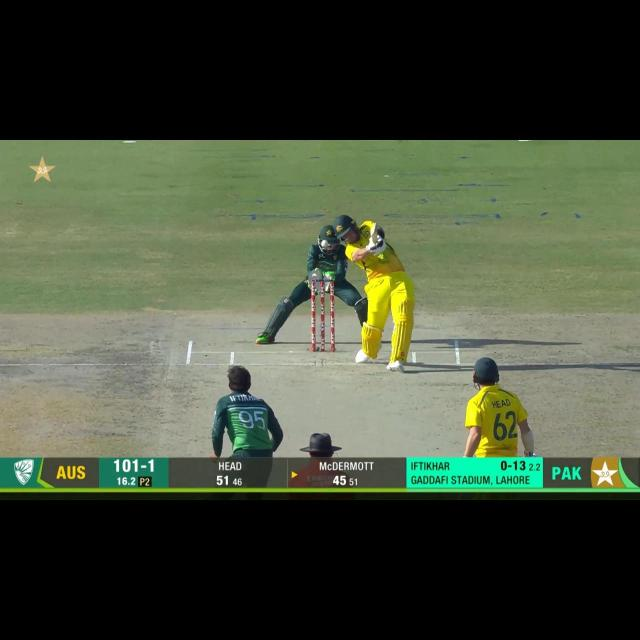bat: (366, 222, 382, 246)
toe: (368, 224, 380, 238)
